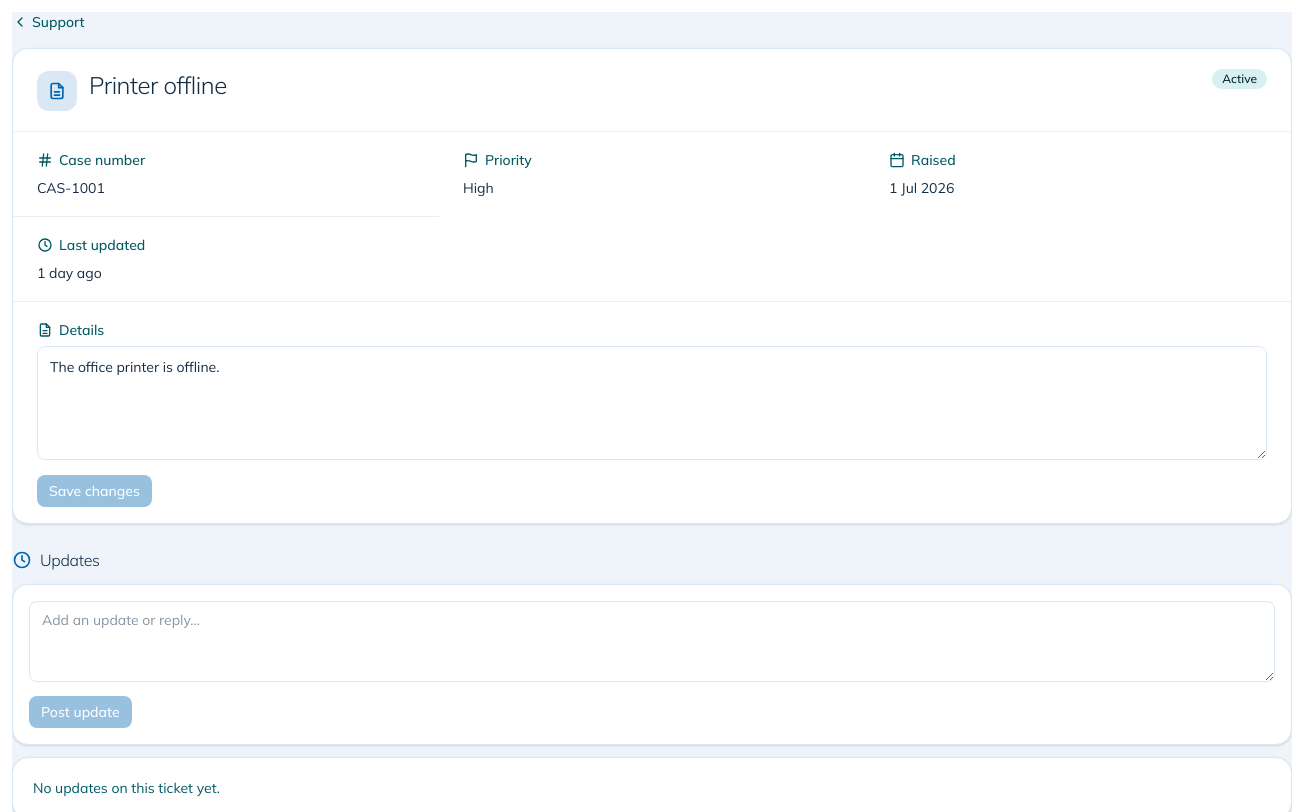
Test: CaseDetailPage › shows a save error message when the description update fails
This screenshot has width=1292, height=812.
Type " more" into the text box showing "The office printer is offline." at (652, 403), box [37,346,1267,460]
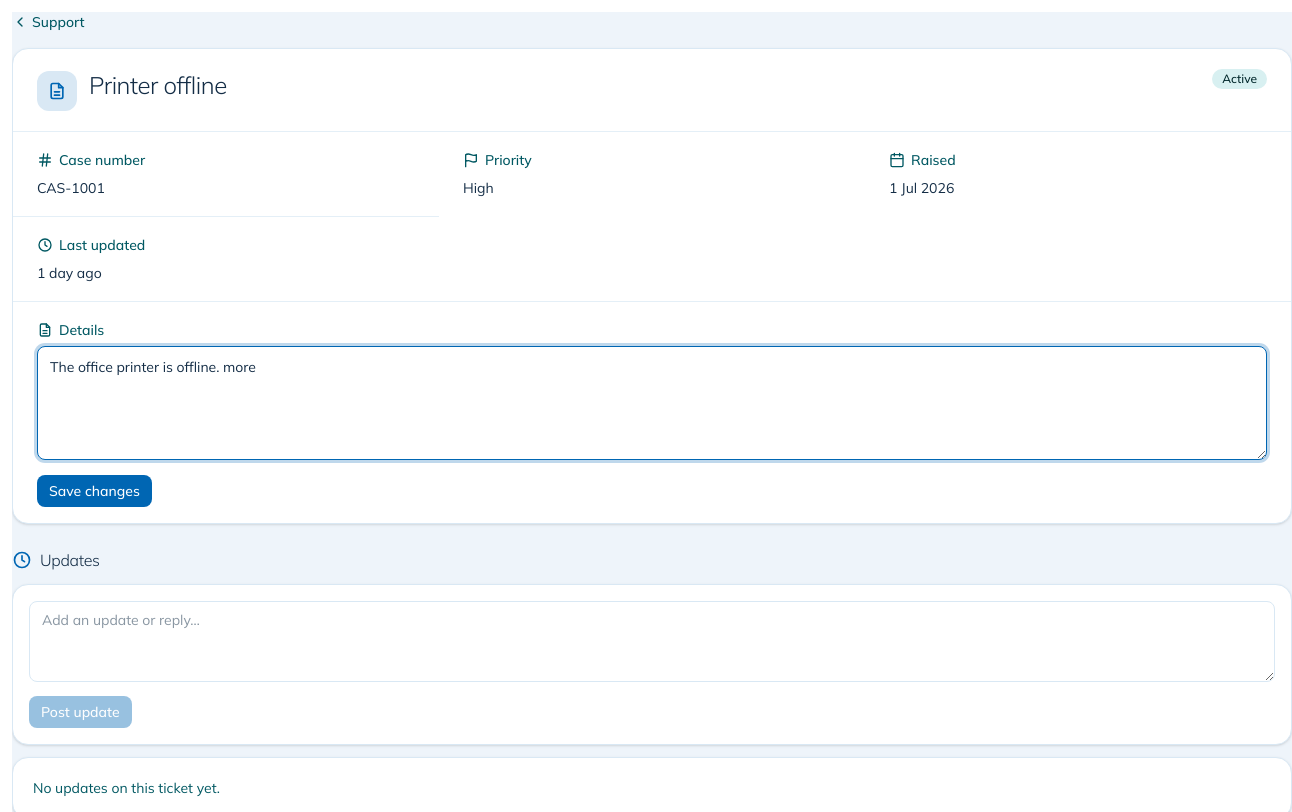
Click the button "Save changes" at (94, 491), box [37,475,152,507]
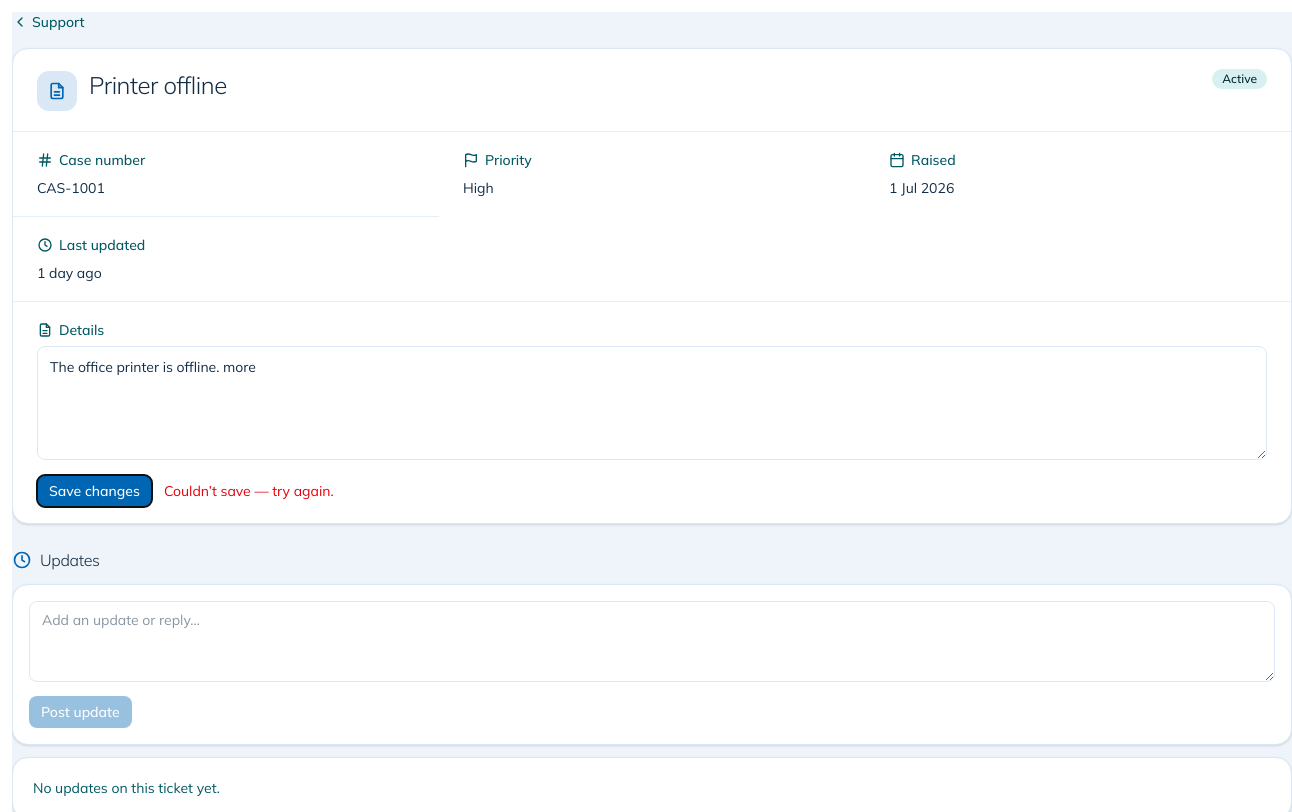
Result: the text "Couldn’t save — try again." is shown at [164,481,334,501]
